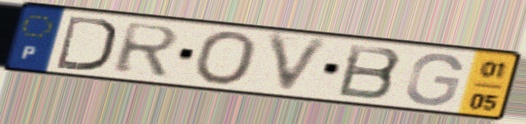B: (334, 42, 405, 102)
D: (53, 13, 119, 74)
G: (402, 51, 466, 108)
O: (190, 30, 260, 87)
R: (110, 21, 183, 79)
V: (264, 30, 336, 97)
